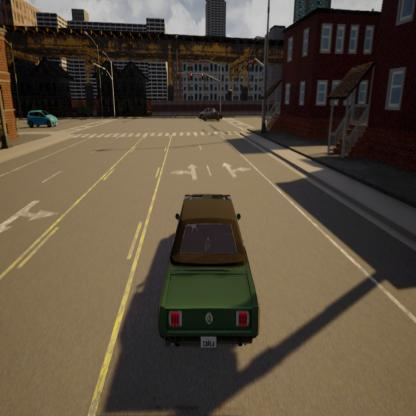Cars: (152, 187, 266, 357), (26, 105, 62, 132), (194, 102, 225, 124)
